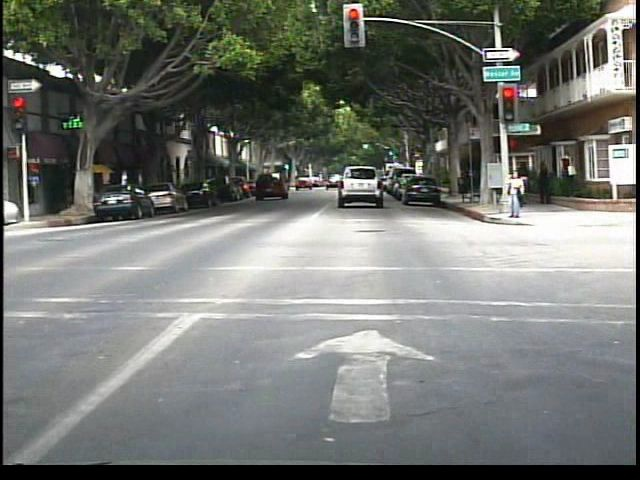person: (500, 168, 526, 221), (557, 149, 579, 198), (532, 157, 552, 210), (515, 156, 533, 206)
